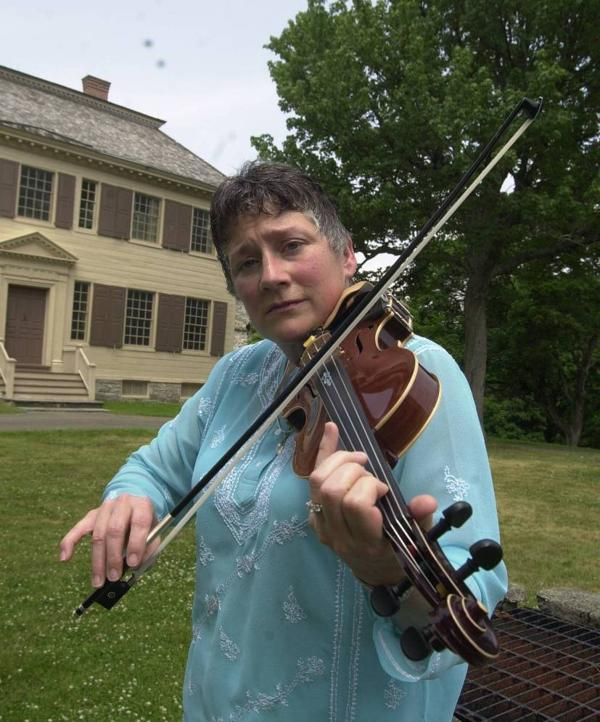person: (63, 155, 510, 719)
